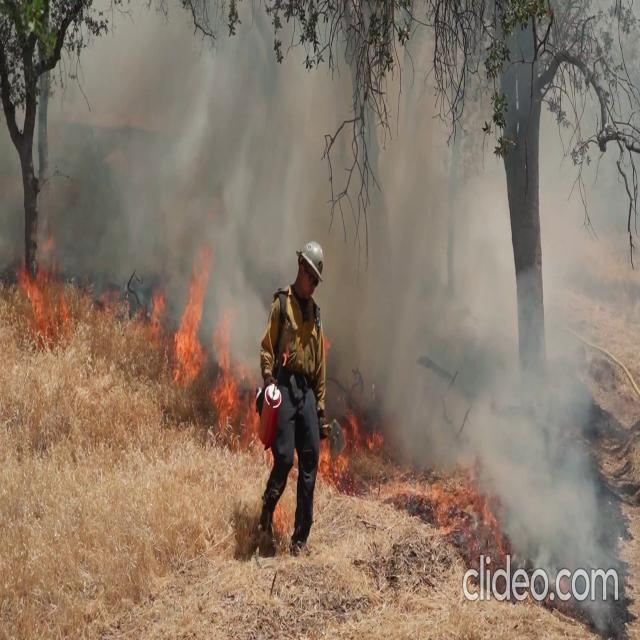Fire: (0, 242, 146, 332), (168, 235, 238, 410), (169, 232, 217, 390), (320, 404, 385, 486), (3, 252, 60, 326)
Smoke: (333, 36, 632, 586)
